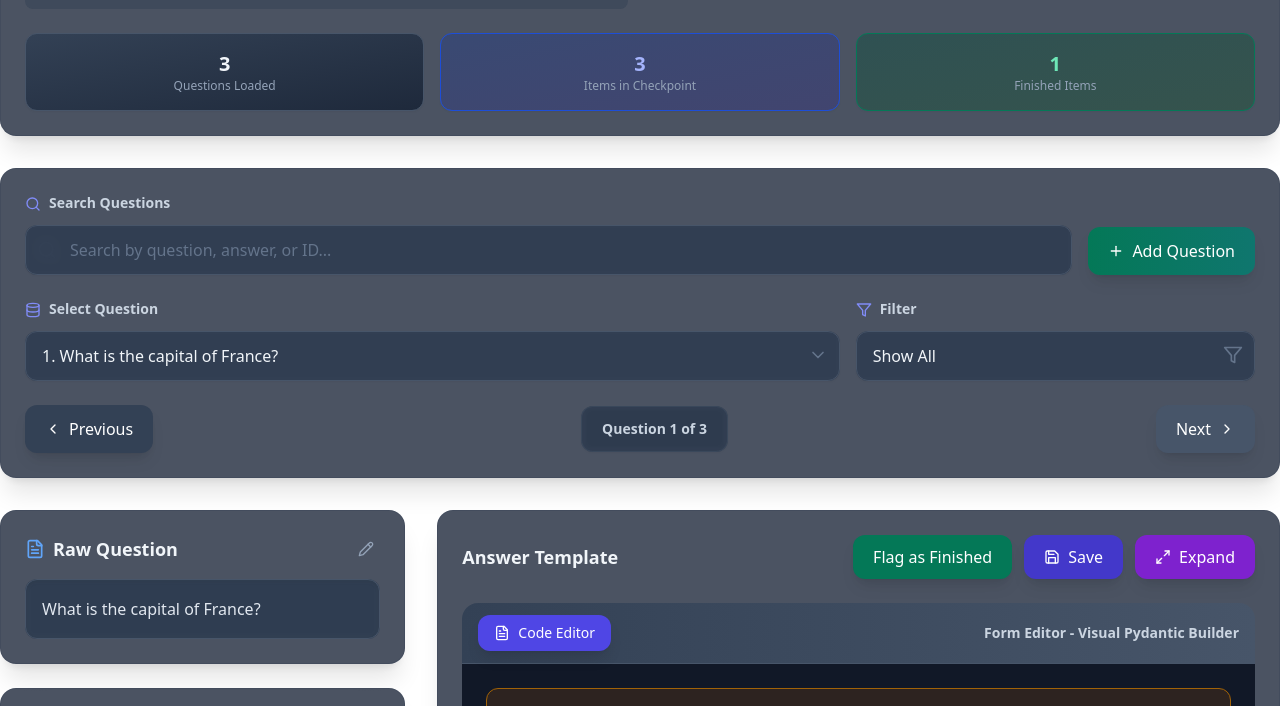
Test case: Question Navigation Integration Tests › integ-011: Question search and filter by status › should filter to show only finished questions
(page scrolled)
Expected: the text "Question 1 of 3" is shown, 602,419 -> 707,439
Note: Filter to finished only
Select "Finished Only" in the dropdown "Show All" below "Filter": (1055, 356) 856,331 -> 1255,381
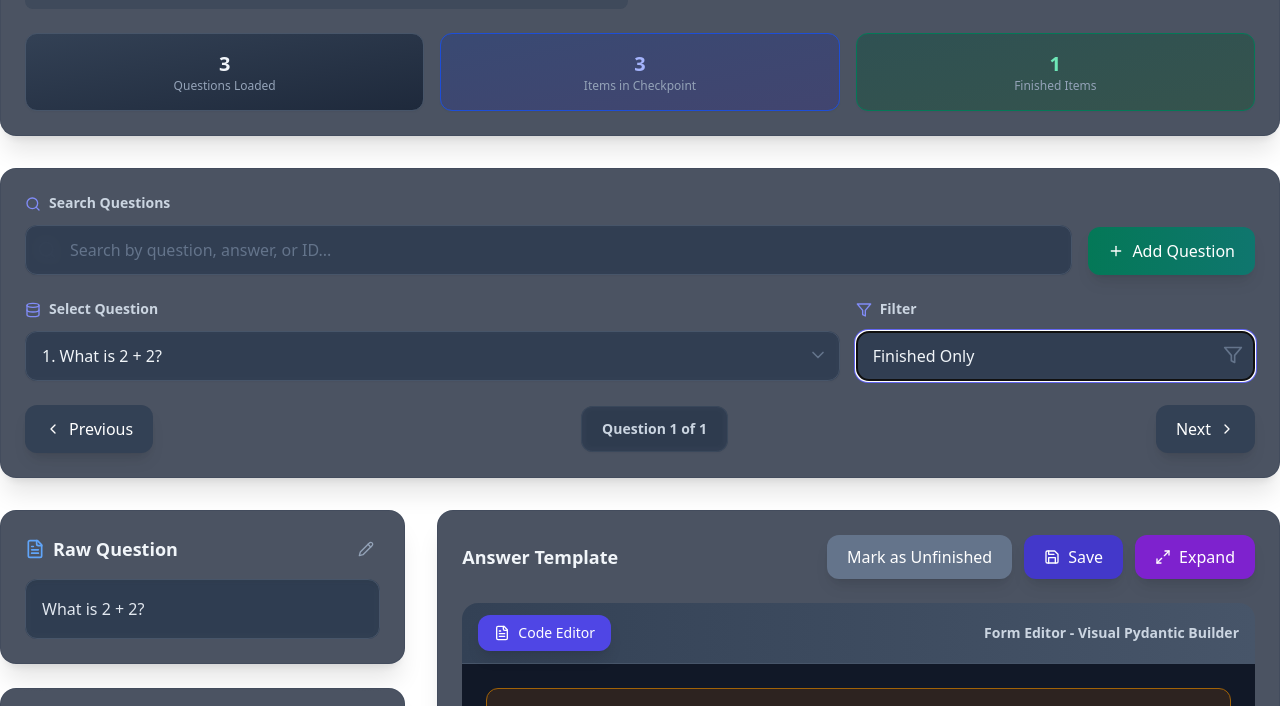
Now the text "Question 1 of 1" is shown, box 602,419 -> 707,439
